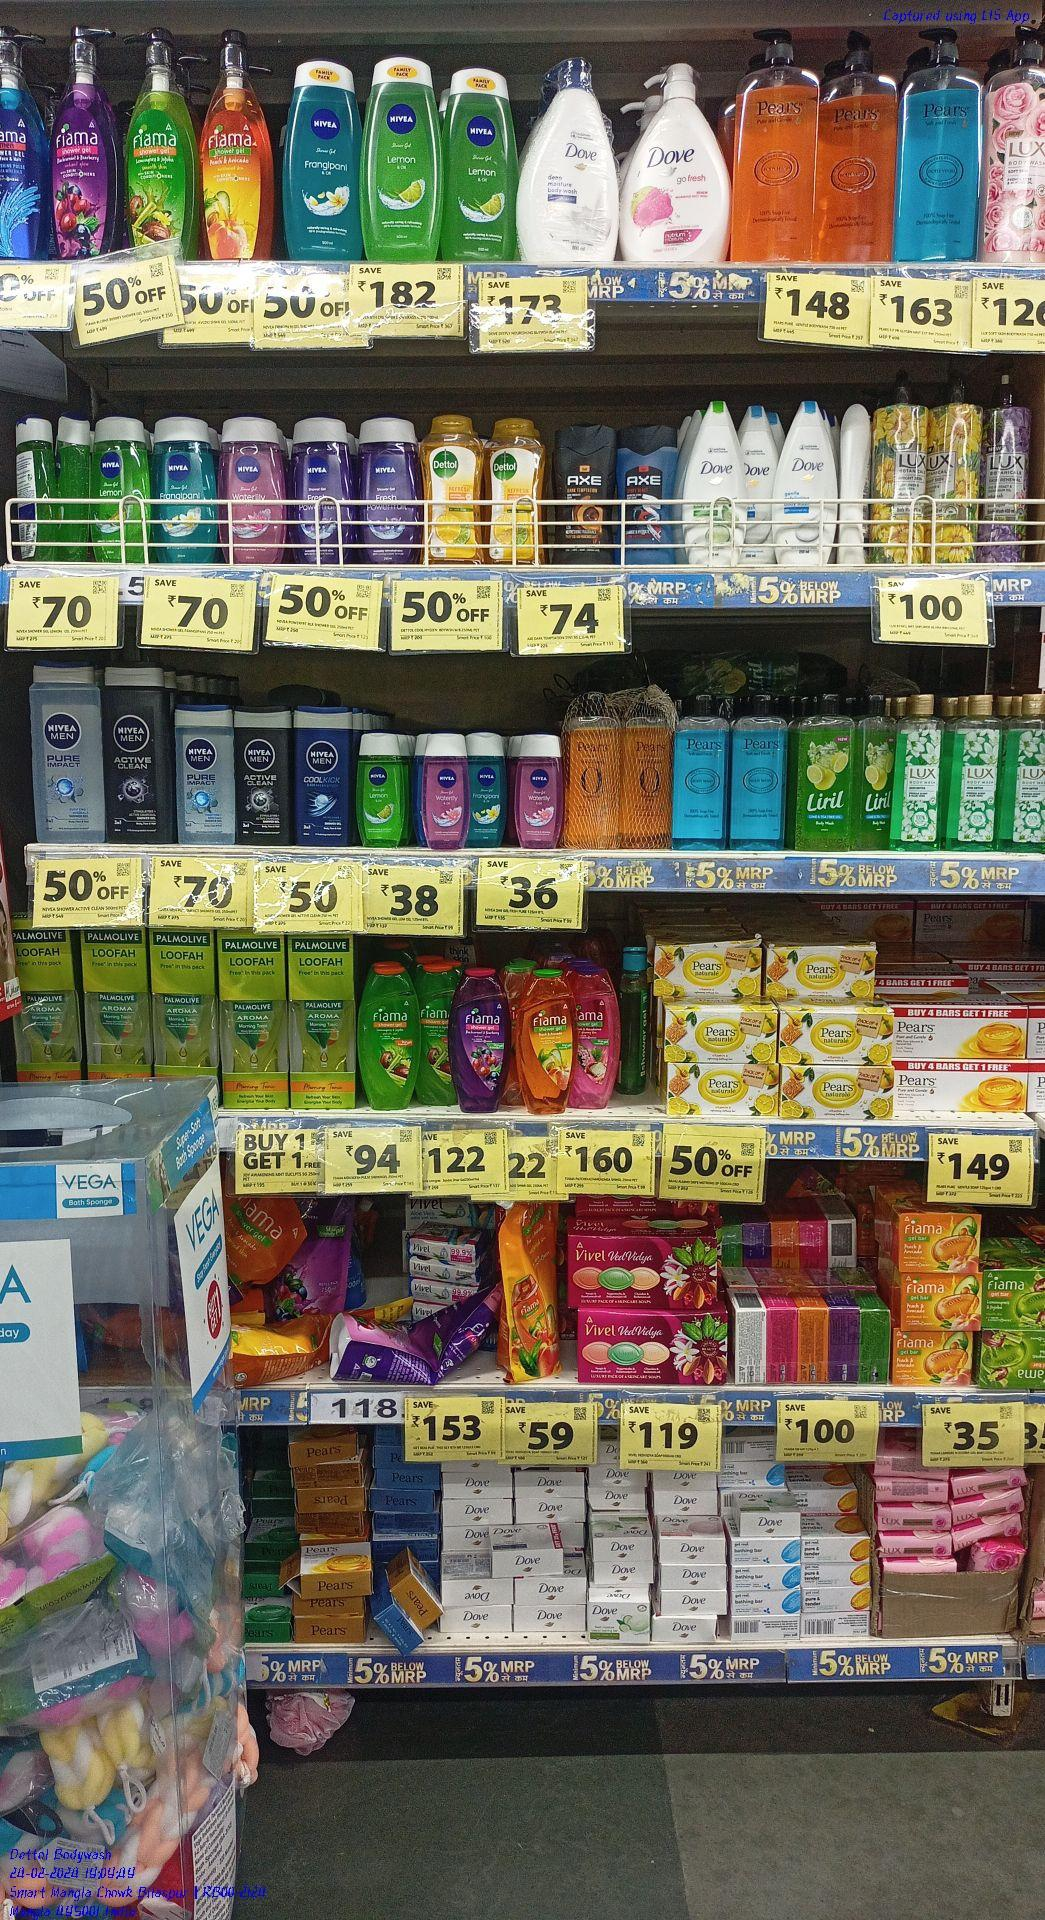Dettol_Bodywash_Refresh: (422, 413, 484, 565), (490, 418, 544, 564)
Dove_Gentle_Exfoliating_Body_Wash_250ML: (772, 402, 838, 564)
Dove_Refreshing_Body_Wash_250ML: (683, 399, 748, 565)
Fiama_Shower_Gel_Lemongrass_and_Jojoba_250ML: (359, 969, 417, 1111)
Fiama_Shower_Gel_Patchouli_and_Macadamia_250ML: (578, 969, 619, 1107)
Fiama_Shower_Gel_Peach_and_Avocado_250ML: (515, 972, 575, 1113)
Liril_Lime_and_Tea_Tree_Oil_Body_Wash_250ML: (798, 694, 852, 851)
Lux_Body_Wash_Skin_Detox_Freesia_Scent_and_Alove_Vera_245ML: (894, 696, 942, 848), (955, 695, 1000, 847), (1017, 696, 1045, 849)
Nivea_Shower_Gel_Frangipani_and_Oil_250ML: (286, 60, 360, 259), (154, 418, 216, 565)
Nivea_Shower_Gel_Fresh_Powerfruit_250ML: (359, 417, 418, 562), (295, 418, 351, 564)
Nivea_Shower_Gel_Lemon_and_Oil_250ML: (364, 57, 443, 263), (445, 67, 517, 259), (90, 417, 147, 558)
Nivea_Shower_Gel_Waterlily_and_Oil_250ML: (224, 416, 284, 561)
Pears_Pure_Glycerin_and_Mint_Extracts_Body_Wash_250ML: (673, 695, 727, 851), (732, 696, 786, 849)
